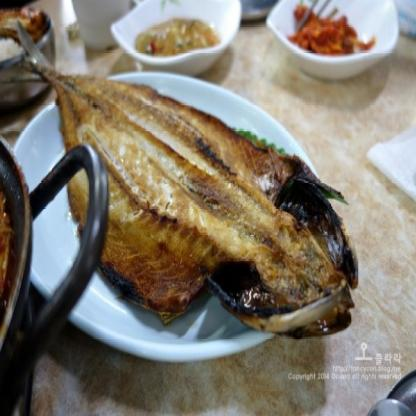Peixe: (0, 34, 369, 346)
